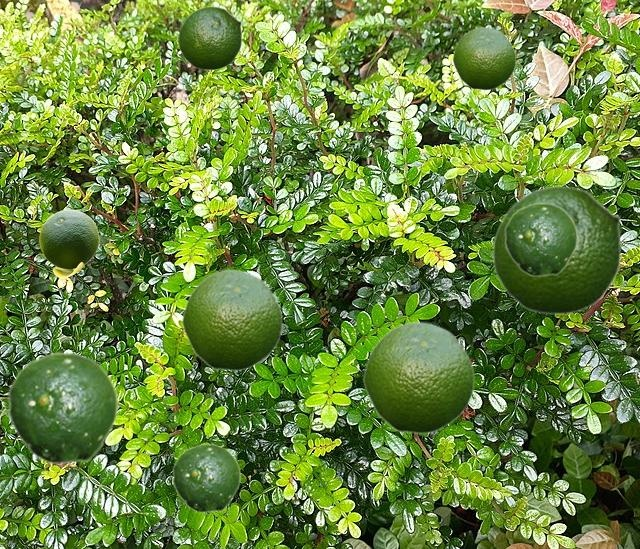calamansi: (492, 185, 621, 314), (362, 320, 474, 433), (7, 351, 118, 464), (181, 268, 282, 370), (504, 202, 577, 276), (172, 443, 240, 512), (39, 209, 98, 278), (178, 6, 241, 69), (452, 26, 515, 89)
